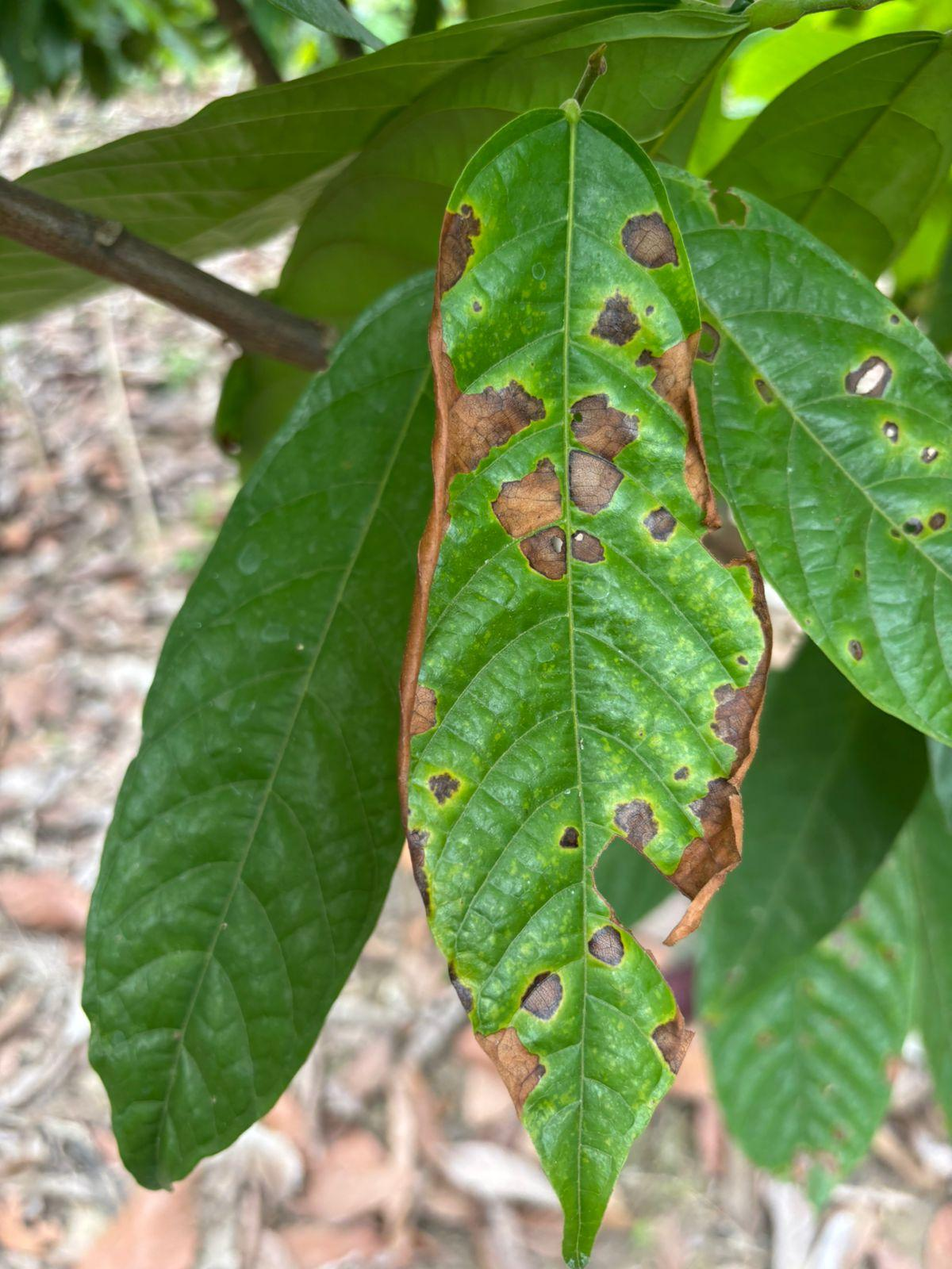Potasio: (401, 94, 766, 1268)
